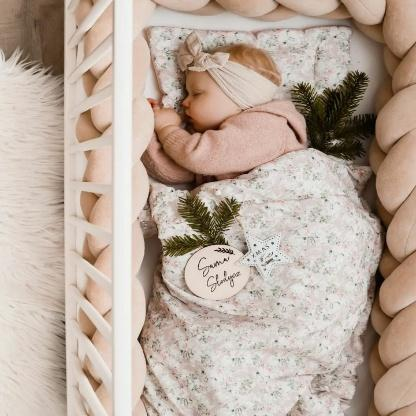baby: (140, 42, 308, 182)
